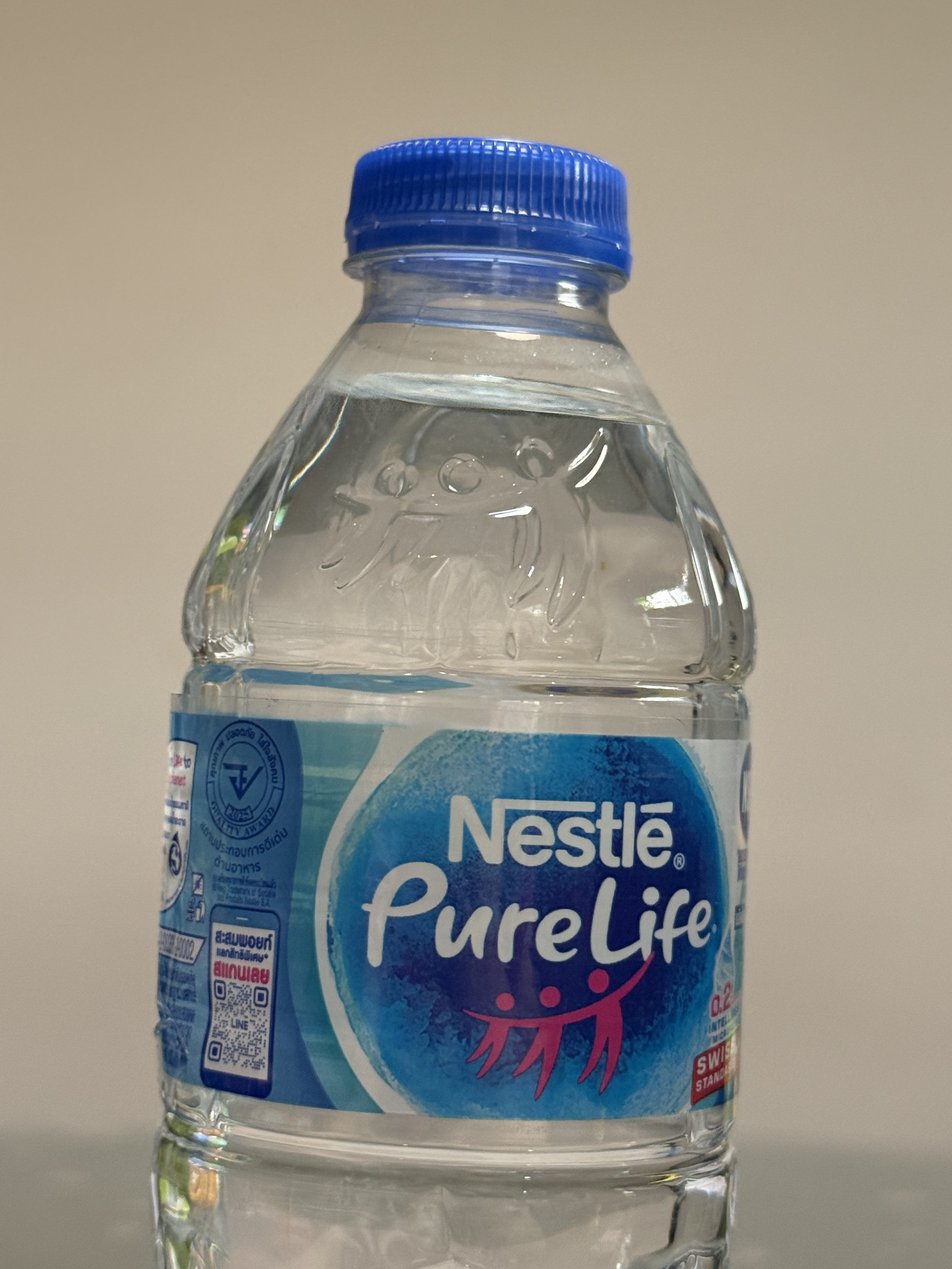closed_cap: (340, 131, 635, 284)
